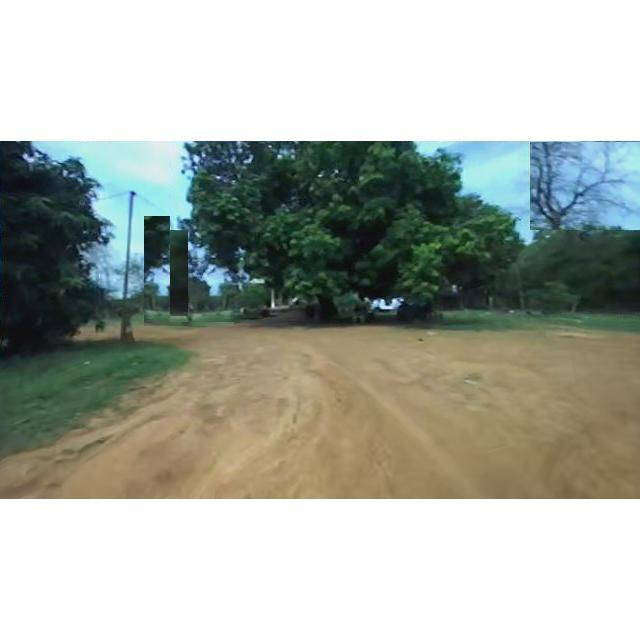direk: (170, 142, 530, 322), (0, 142, 110, 360), (522, 142, 640, 312), (512, 230, 640, 316), (143, 216, 234, 326)
